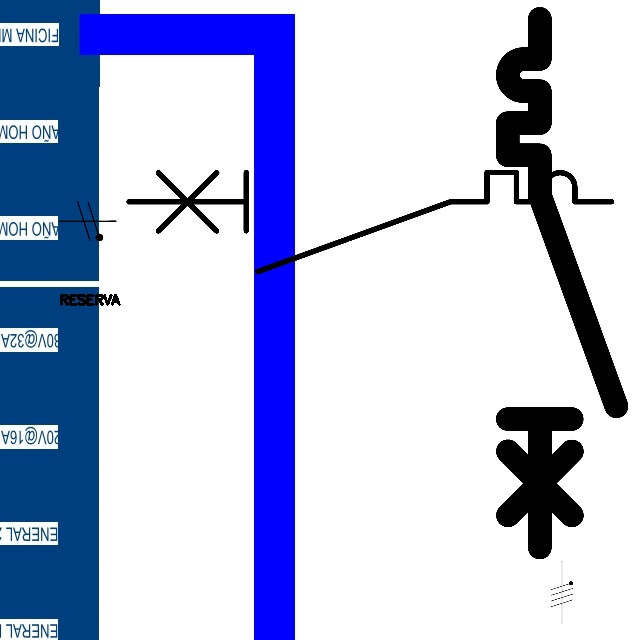interruptor_termomagnetico: (494, 5, 630, 561), (116, 160, 624, 284)
